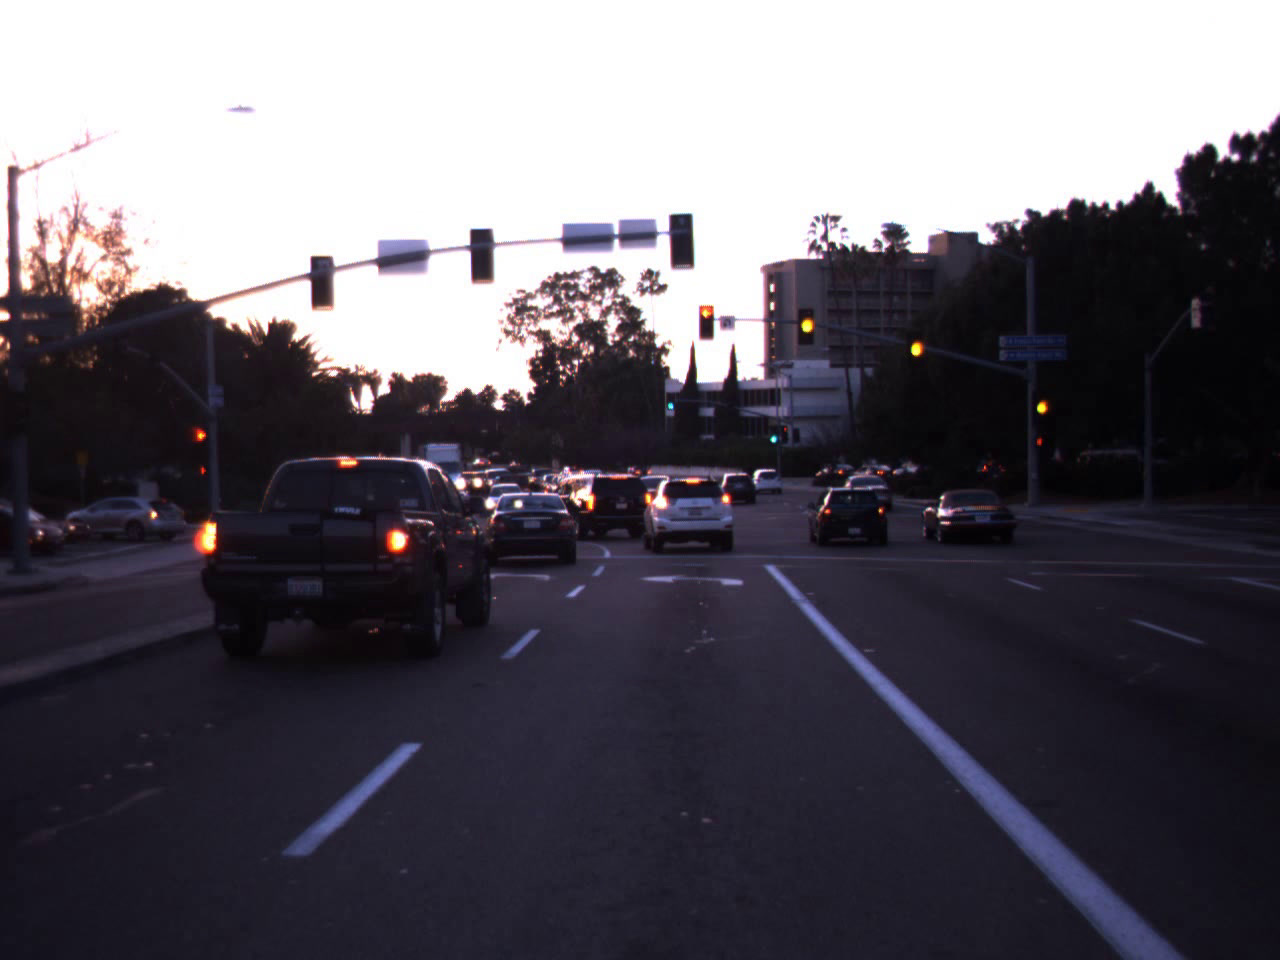go: (766, 418, 781, 443), (664, 388, 676, 408)
stop: (686, 300, 728, 354), (188, 425, 215, 470)
warning: (1024, 377, 1060, 431), (903, 322, 930, 371), (794, 300, 821, 345)
